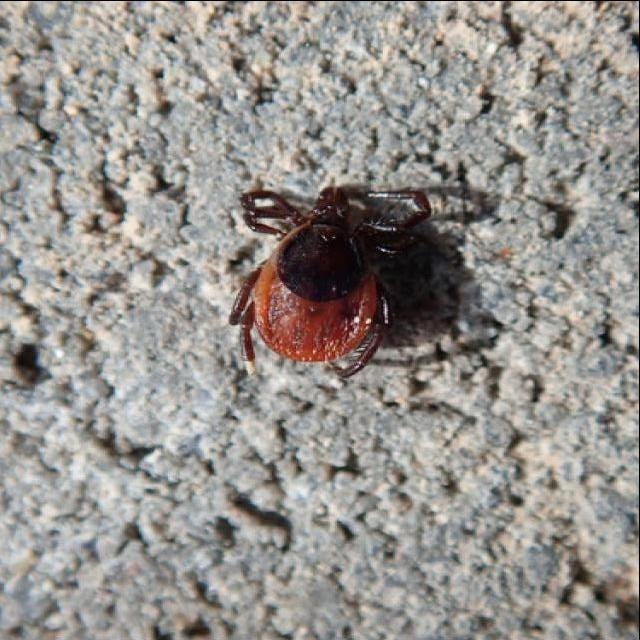Ixodes Ricinus-F: (232, 182, 433, 379)
